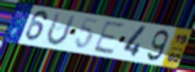4: (121, 24, 147, 61)
5: (73, 17, 101, 51)
6: (24, 9, 48, 43)
9: (146, 29, 170, 62)
E: (91, 19, 126, 56)
U: (46, 12, 78, 47)
